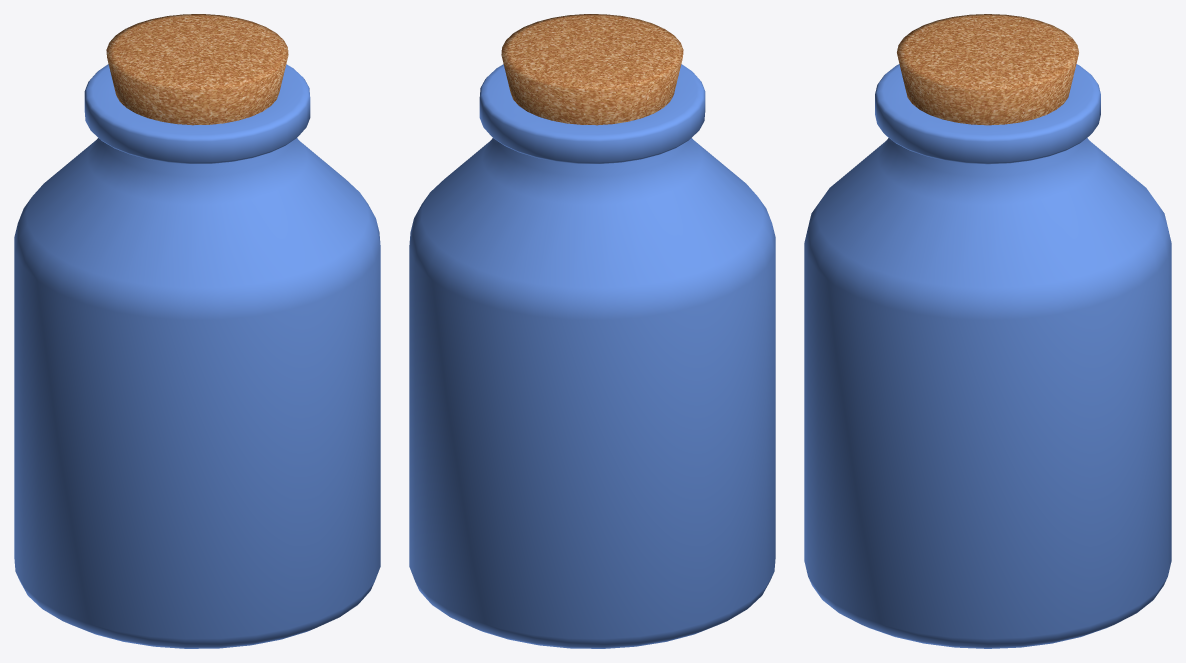
File: wide_glass_bottle.glb
3 views of the same model, side by side, from view 1: azimuth 30°, elevation 25°; view 2: azimuth 150°, elevation 25°; view 3: azimuth 270°, elevation 25° (orthographic).
Visible parts, largest first — view 1: Bottle, Cork; view 2: Bottle, Cork; view 3: Bottle, Cork.
Boxes of the visible parts, <box> form: Bottle: <box>14,64,380,648</box>; Cork: <box>106,14,288,125</box>; Bottle: <box>409,64,775,648</box>; Cork: <box>501,14,683,125</box>; Bottle: <box>804,64,1171,648</box>; Cork: <box>897,14,1078,125</box>.
Size of the model in its own units: 0.1798 by 0.2886 by 0.1798.
Materials: 2 (2 with a texture image).
